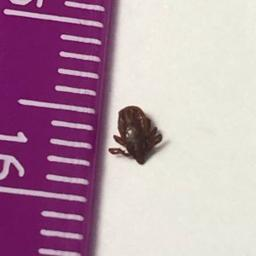Rhipicephalus sanguineus: (108, 105, 163, 165)
